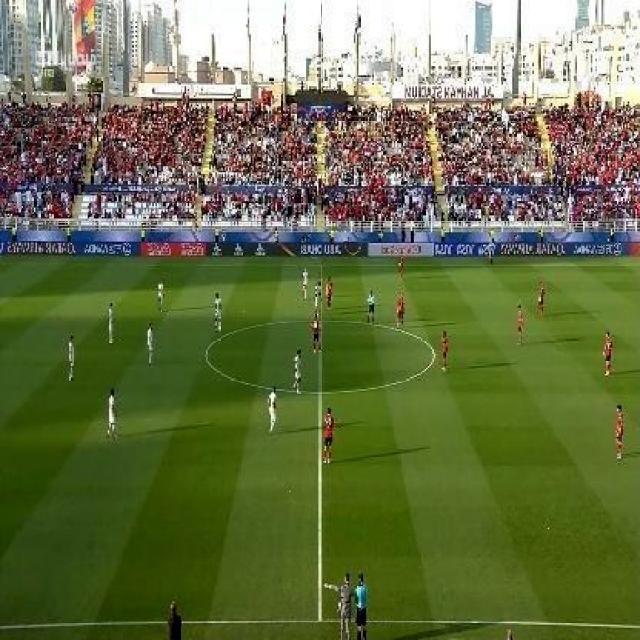halfcircle_bottom: (312, 378, 330, 402)
halfcircle_top: (314, 312, 329, 328)
midline_bottom_intersection: (310, 606, 332, 628)
midline_top_intersection: (317, 256, 329, 270)
